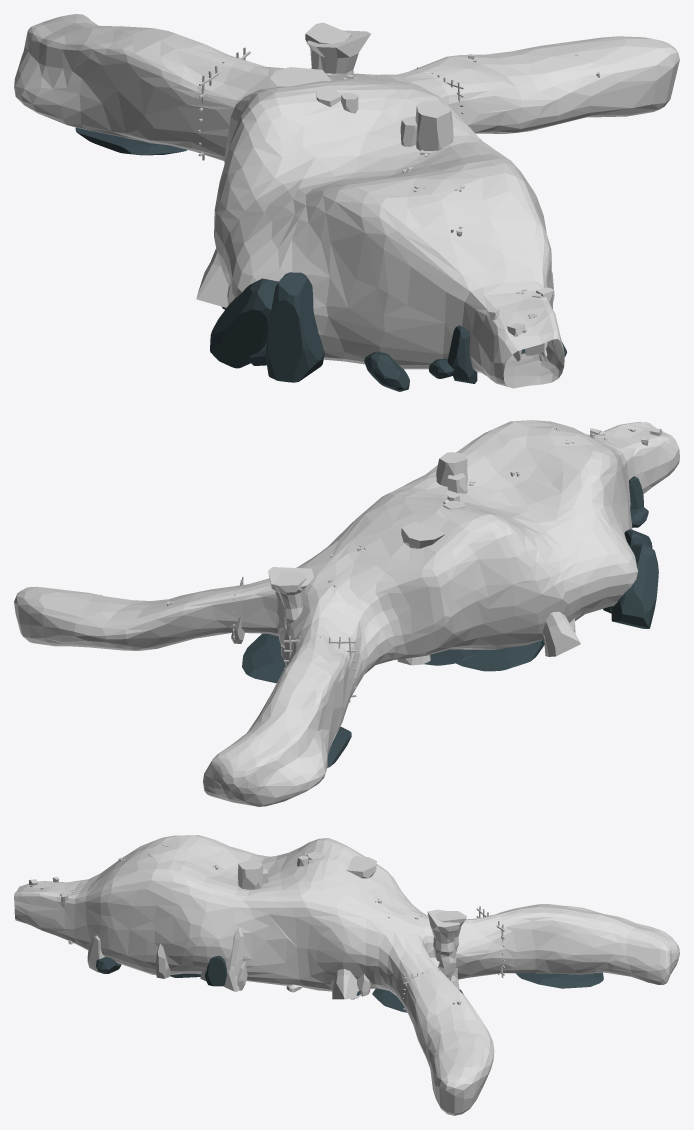
File: CaveTesting02.fbx
3 renders of one model, top to bottom at view 1: azimuth 30°, elevation 25°; view 2: azimuth 150°, elevation 25°; view 3: azimuth 270°, elevation 25°, orthographic. The views are drawn at different scales.
Visible parts, largest first — view 1: Cave, Stone1.001, Stone1.002, SpikeStone5.002, Cylinder.010, Stone2.004, Stone4, Stone1, SpikeStone3.001, Cylinder, Cylinder.009; view 2: Cave, Stone1.002, Stone2.003, Stone2.001, SpikeStone3.001, Cylinder.009, Cylinder, Cylinder.010, SpikeStone5.002, Stone2.002; view 3: Cave, Cylinder.010, Stone2.004, SpikeStone3, SpikeStone3.002, SpikeStone5.002, Stone1.004, Cylinder.009, Cylinder, Stone2.003.
Boxes of the visible parts, bbox=[...] form: Cave: bbox=[14, 14, 679, 388]; Stone1.001: bbox=[265, 272, 324, 382]; Stone1.002: bbox=[210, 278, 278, 368]; SpikeStone5.002: bbox=[415, 101, 453, 150]; Cylinder.010: bbox=[306, 30, 370, 73]; Stone2.004: bbox=[75, 127, 187, 155]; Stone4: bbox=[364, 351, 409, 391]; Stone1: bbox=[447, 325, 477, 383]; SpikeStone3.001: bbox=[196, 249, 228, 307]; Cylinder: bbox=[270, 67, 331, 87]; Cylinder.009: bbox=[305, 22, 351, 69]; Cave: bbox=[14, 420, 679, 806]; Stone1.002: bbox=[611, 543, 658, 628]; Stone2.003: bbox=[242, 633, 285, 683]; Stone2.001: bbox=[456, 640, 543, 671]; SpikeStone3.001: bbox=[542, 611, 580, 656]; Cylinder.009: bbox=[274, 571, 306, 667]; Cylinder: bbox=[397, 521, 445, 665]; Cylinder.010: bbox=[268, 567, 314, 662]; SpikeStone5.002: bbox=[436, 452, 467, 486]; Stone2.002: bbox=[424, 649, 475, 665]; Cave: bbox=[14, 835, 679, 1115]; Cylinder.010: bbox=[427, 909, 459, 980]; Stone2.004: bbox=[515, 972, 603, 988]; SpikeStone3: bbox=[223, 926, 243, 991]; SpikeStone3.002: bbox=[332, 969, 361, 999]; SpikeStone5.002: bbox=[238, 861, 263, 889]; Stone1.004: bbox=[205, 955, 226, 986]; Cylinder.009: bbox=[436, 911, 466, 990]; Cylinder: bbox=[346, 856, 376, 878]; Stone2.003: bbox=[372, 988, 463, 1012].
Size of the model in its own units: 4565 by 1428 by 6518.
